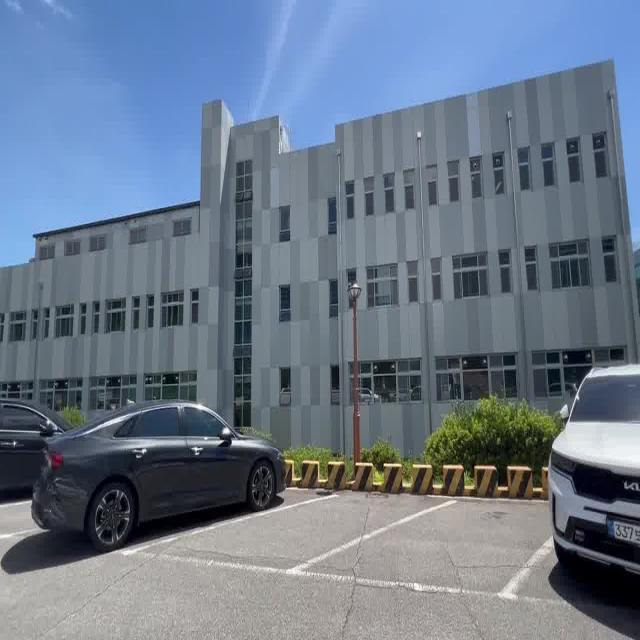building: (16, 46, 576, 401)
